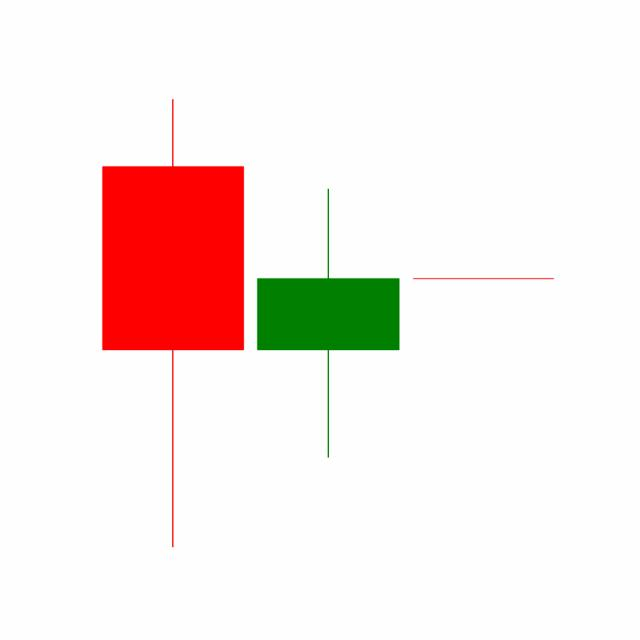Spinning Top: (249, 185, 406, 460)
